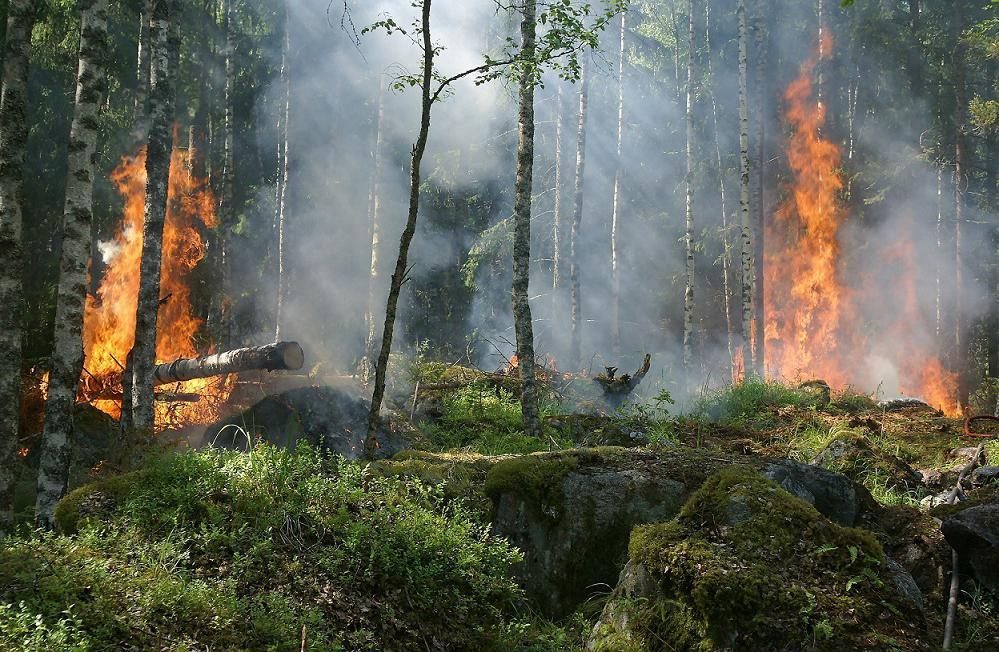Fire: (715, 17, 980, 428), (25, 109, 244, 444)
